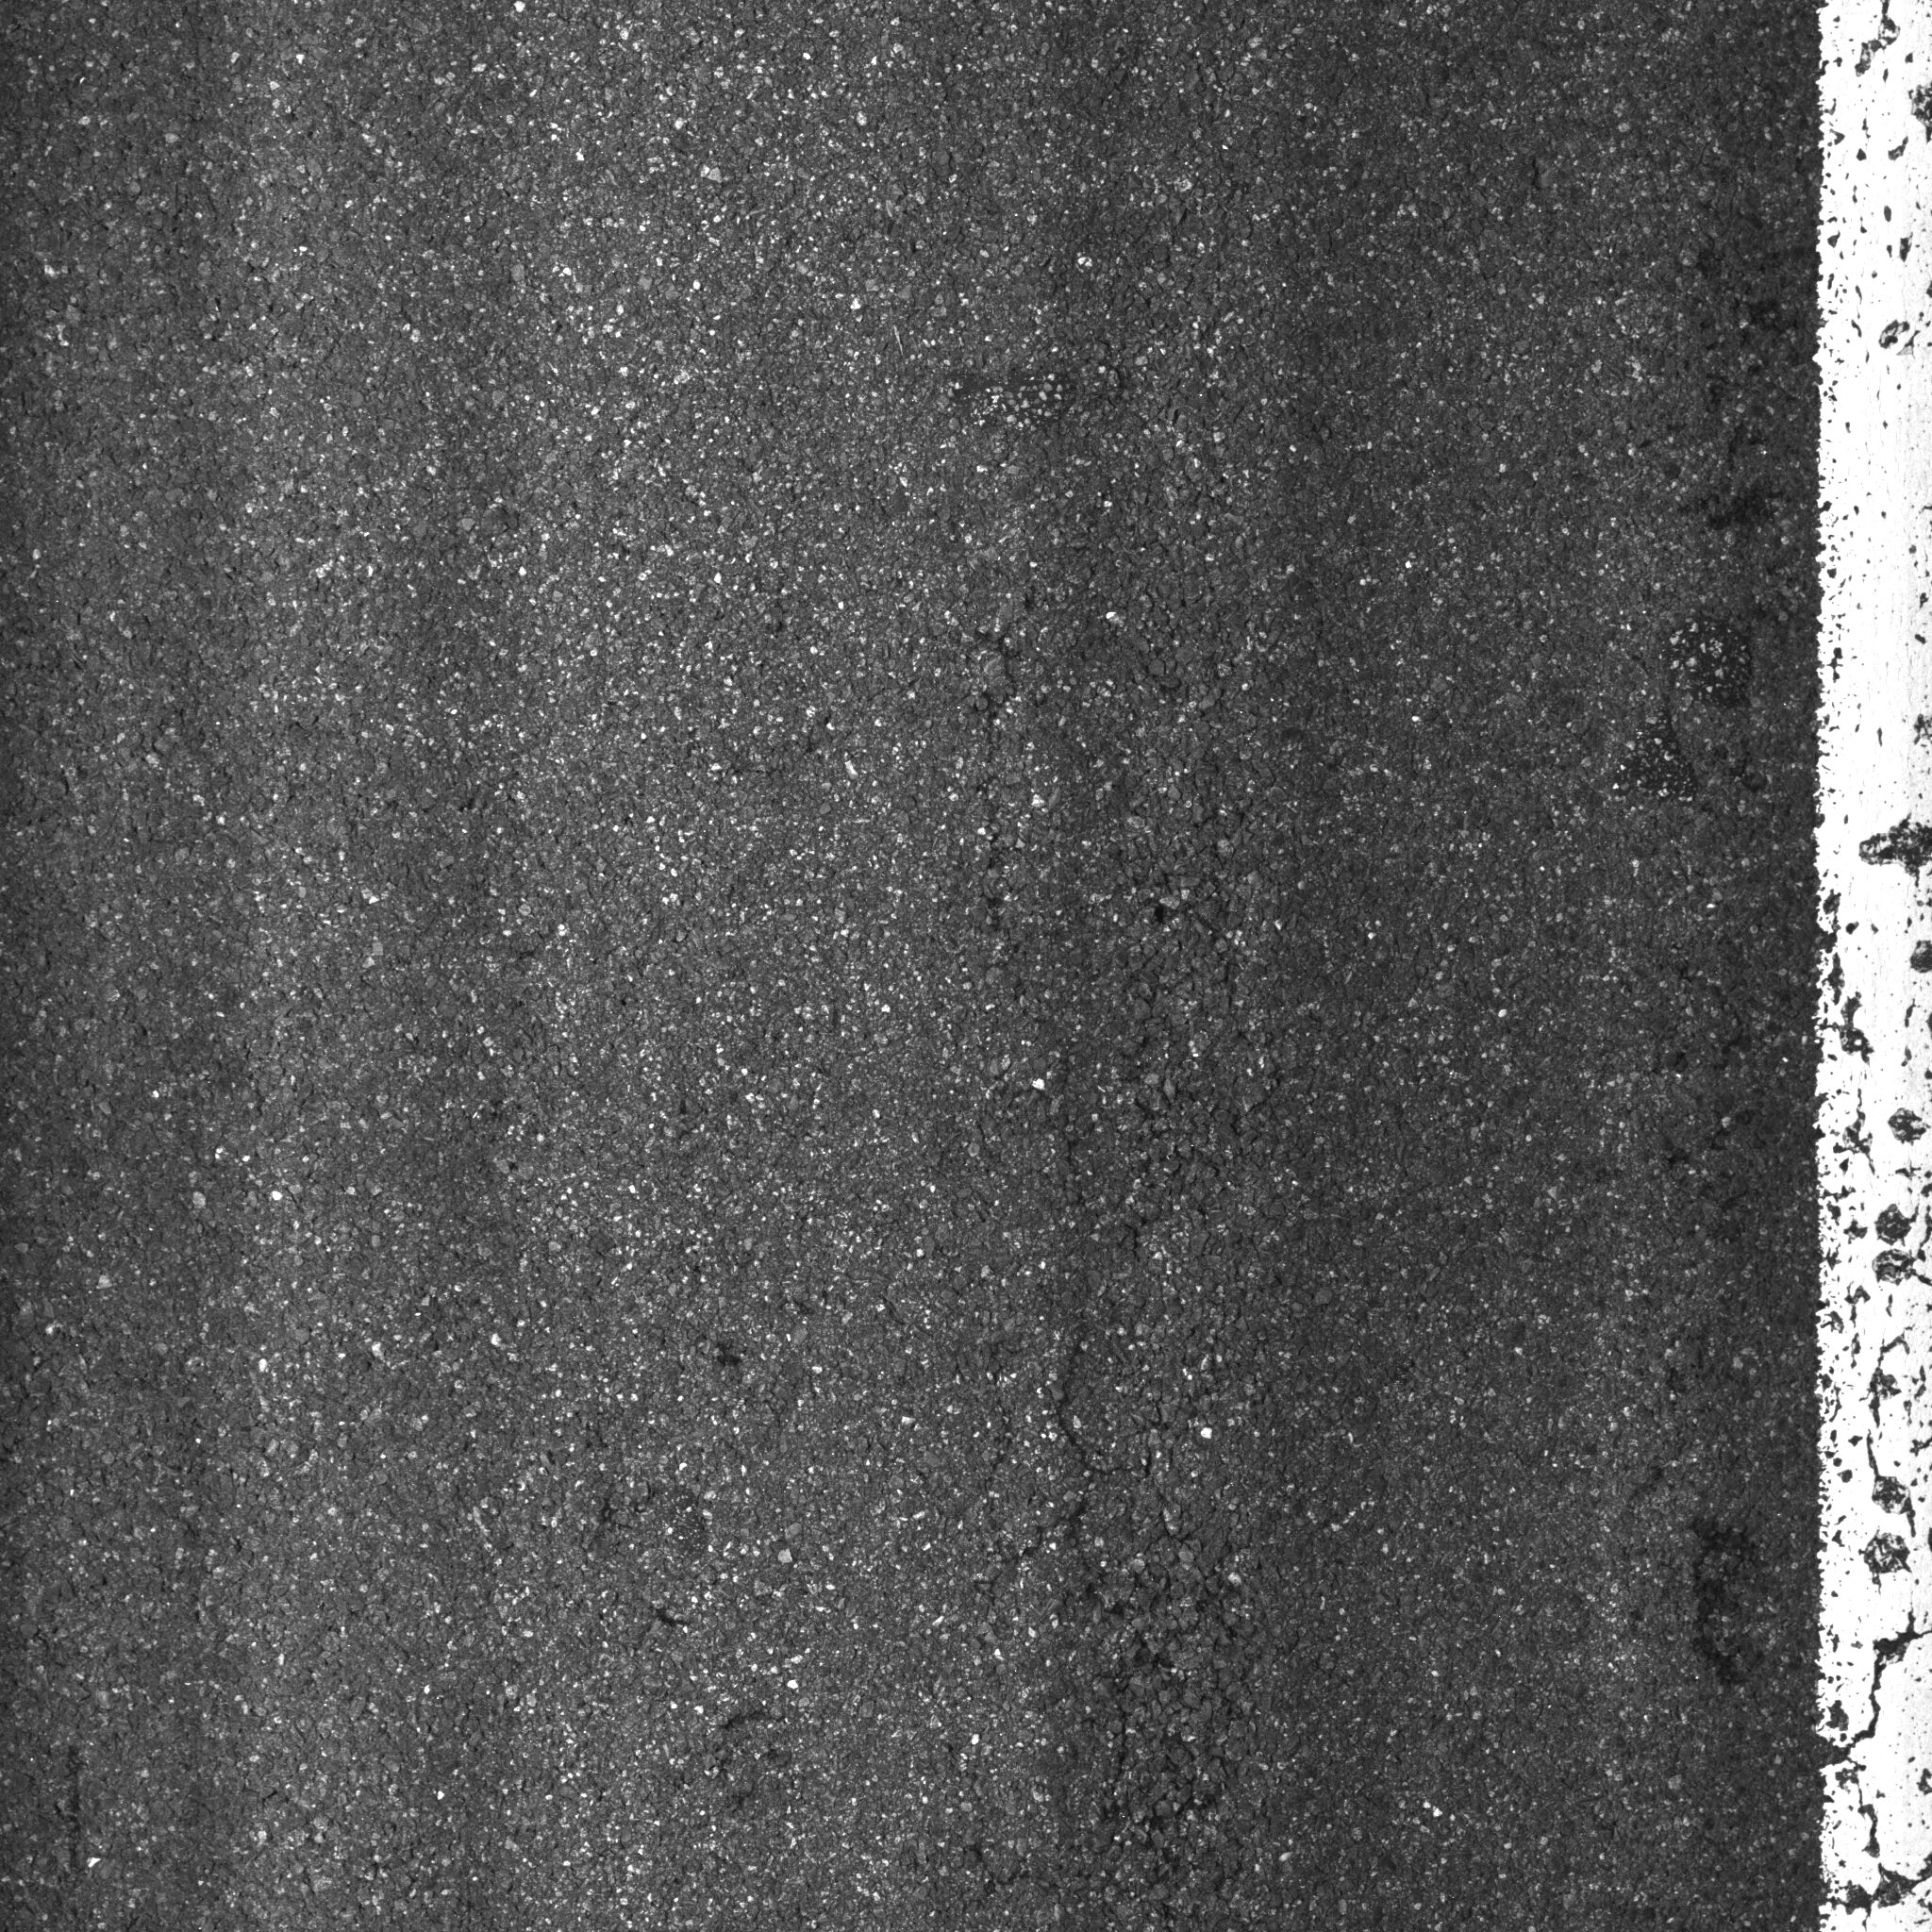longitudinal: (948, 435, 1143, 1654)
